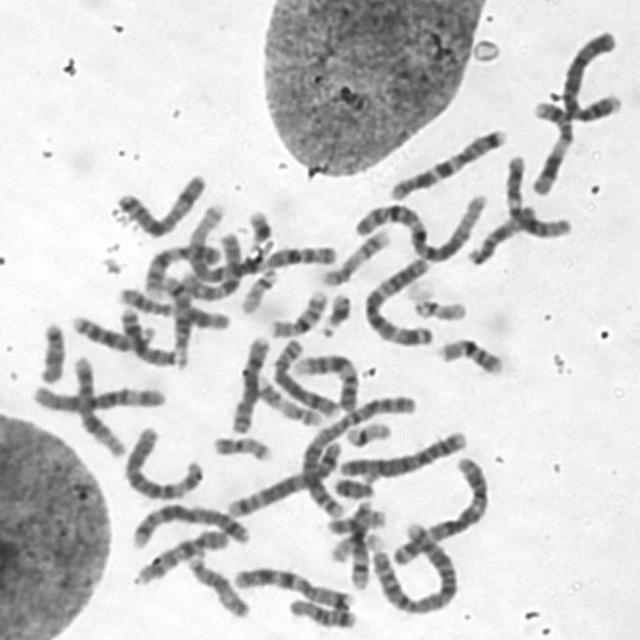A1: (180, 201, 336, 281), (351, 190, 491, 264)
A2: (296, 388, 420, 520), (366, 514, 462, 618)
A3: (388, 450, 494, 567), (360, 251, 438, 349)
B4: (332, 425, 470, 481), (557, 24, 628, 124)
B5: (222, 437, 346, 519), (128, 498, 255, 551)
C10: (128, 524, 232, 588), (177, 227, 245, 302)
C11: (114, 281, 232, 331), (525, 94, 577, 198)
C12: (499, 148, 576, 241), (69, 350, 131, 458)
C6: (119, 420, 206, 502), (26, 377, 170, 414)
C7: (384, 123, 510, 202), (231, 561, 357, 613)
C8: (270, 334, 344, 419), (227, 330, 274, 436)
C9: (138, 240, 224, 300), (290, 349, 362, 414)
D13: (116, 301, 188, 369), (67, 308, 156, 353)
D14: (159, 269, 195, 369), (346, 494, 378, 591)
D15: (464, 199, 542, 268), (183, 548, 252, 620)
E16: (264, 284, 330, 339), (432, 332, 507, 377)
E17: (318, 225, 393, 288), (252, 371, 324, 428)
E18: (284, 592, 359, 631), (34, 316, 68, 386)
F19: (325, 528, 387, 563), (340, 416, 395, 449)
F20: (209, 430, 275, 463), (323, 505, 388, 535)
G21: (315, 287, 354, 338), (242, 203, 277, 255)
G22: (236, 264, 281, 314), (408, 293, 471, 323)
X: (110, 168, 209, 238)
Y: (330, 473, 378, 500)
